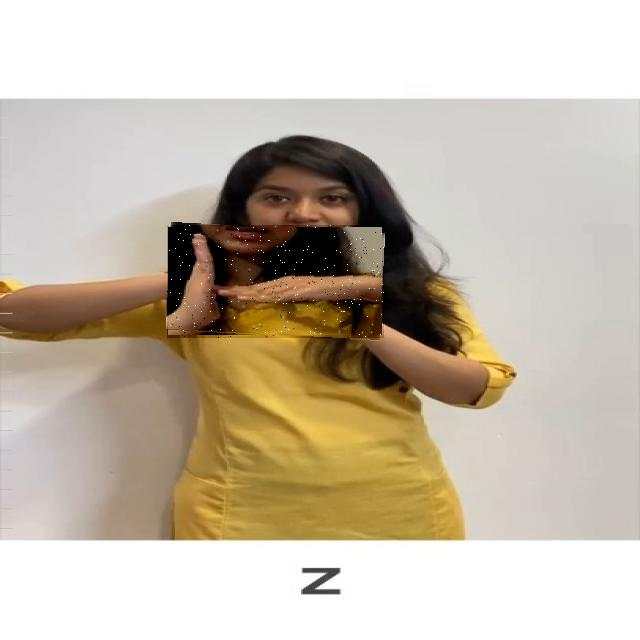Z: (167, 225, 384, 338)
